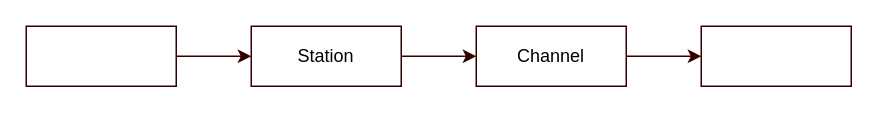
This 878x113 diagram has some shape labels left out. Each missing label, with the centre of its shape:
Network: (x=100, y=55)
Response: (x=775, y=55)
